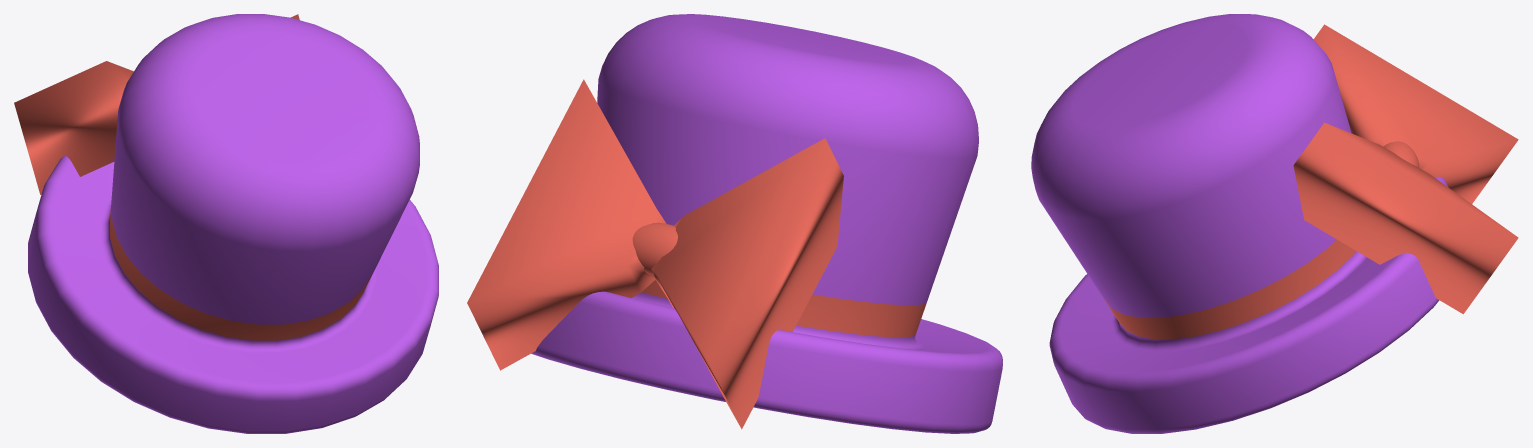
The model's file is BoushiAR.glb.
3 renders of one model, left to right at view 1: azimuth 30°, elevation 25°; view 2: azimuth 150°, elevation 25°; view 3: azimuth 270°, elevation 25°, orthographic. The views are drawn at different scales.
Parts seen in each view (by area): view 1: Cylinder, Cube; view 2: Cylinder, Cube, Sphere; view 3: Cylinder, Cube.
Boxes of the visible parts, <box> form: Cylinder: <box>28,14,438,433</box>; Cube: <box>14,14,299,194</box>; Cylinder: <box>531,14,1002,433</box>; Cube: <box>467,79,843,429</box>; Sphere: <box>632,222,677,275</box>; Cylinder: <box>1031,14,1448,433</box>; Cube: <box>1293,24,1518,314</box>.
Size of the model in its own units: 3.13 by 2.83 by 3.53.
